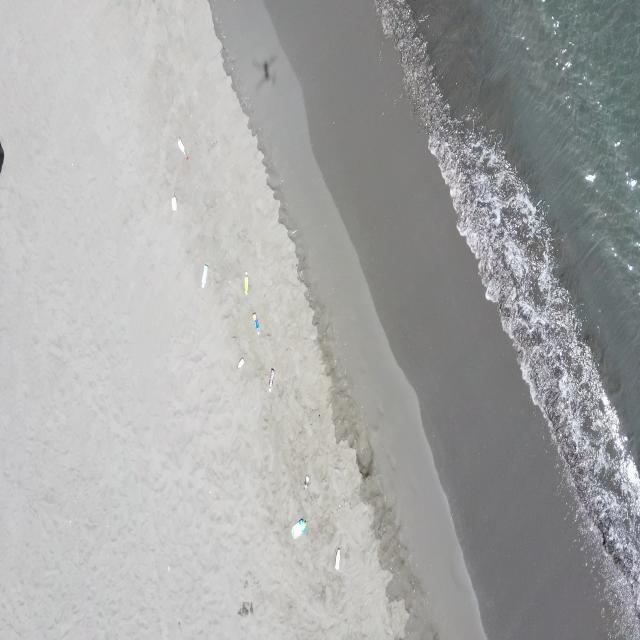Garbage: (291, 517, 306, 537), (176, 138, 186, 156), (200, 263, 207, 287), (333, 547, 340, 569), (252, 312, 259, 332), (267, 367, 272, 391), (171, 193, 176, 211), (243, 272, 247, 293), (236, 357, 243, 367), (303, 475, 308, 488)
